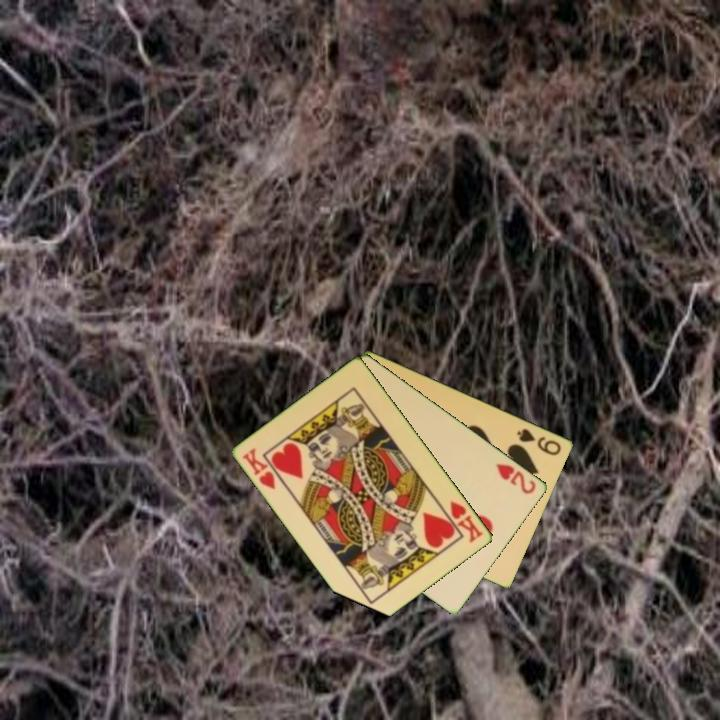2h: (492, 459, 539, 497)
9s: (514, 424, 564, 458)
Kh: (438, 497, 486, 546), (239, 444, 279, 493)
